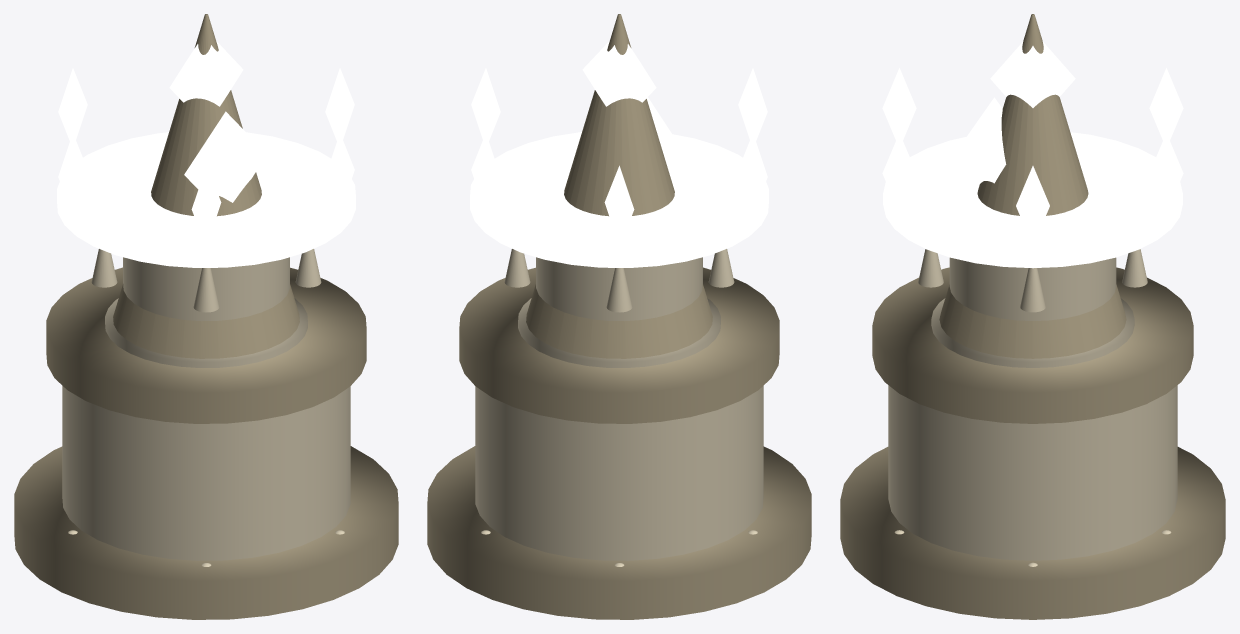
File: void_l5.glb
The picture shows the model from 3 angles, left to right: view 1: azimuth 30°, elevation 25°; view 2: azimuth 150°, elevation 25°; view 3: azimuth 270°, elevation 25°; orthographic projection.
Parts seen in each view (by area): view 1: base, footing, baseCollar, spinRing, obelisk, shaft, spinCrystal, VoidCrown, lowerTrim, VoidShard2, VoidShard1, VoidShard3 (+5 smaller); view 2: base, footing, baseCollar, spinRing, obelisk, shaft, VoidCrown, lowerTrim, VoidShard4, VoidShard3, VoidShard5, VoidShard0 (+5 smaller); view 3: base, footing, baseCollar, spinRing, obelisk, shaft, VoidCrown, lowerTrim, spinCrystal, VoidShard1, VoidShard5, VoidShard0 (+5 smaller).
Boxes of the visible parts, x1,y1,x2,y2 form: base: [62, 386, 350, 560]; footing: [14, 446, 398, 619]; baseCollar: [46, 267, 366, 423]; spinRing: [57, 132, 355, 267]; obelisk: [113, 14, 299, 358]; shaft: [123, 257, 289, 321]; spinCrystal: [184, 111, 267, 202]; VoidCrown: [169, 41, 243, 106]; lowerTrim: [105, 298, 307, 367]; VoidShard2: [191, 165, 221, 246]; VoidShard1: [325, 133, 354, 213]; VoidShard3: [58, 133, 87, 213]; base: [475, 386, 763, 560]; footing: [427, 446, 811, 619]; baseCollar: [459, 267, 779, 423]; spinRing: [470, 132, 768, 267]; obelisk: [526, 14, 712, 358]; shaft: [536, 257, 702, 321]; VoidCrown: [582, 41, 656, 106]; lowerTrim: [518, 298, 720, 367]; VoidShard4: [604, 165, 634, 246]; VoidShard3: [738, 133, 767, 213]; VoidShard5: [471, 133, 500, 213]; VoidShard0: [471, 68, 500, 140]; base: [888, 385, 1177, 560]; footing: [840, 447, 1225, 619]; baseCollar: [872, 267, 1193, 423]; spinRing: [883, 132, 1182, 268]; obelisk: [939, 14, 1126, 358]; shaft: [949, 257, 1116, 320]; VoidCrown: [990, 41, 1075, 107]; lowerTrim: [931, 298, 1134, 367]; spinCrystal: [957, 97, 1006, 183]; VoidShard1: [882, 133, 916, 213]; VoidShard5: [1149, 133, 1183, 213]; VoidShard0: [1016, 166, 1049, 245].
Bounding box in the file's own units: 1.8 × 2.7 × 1.8.
